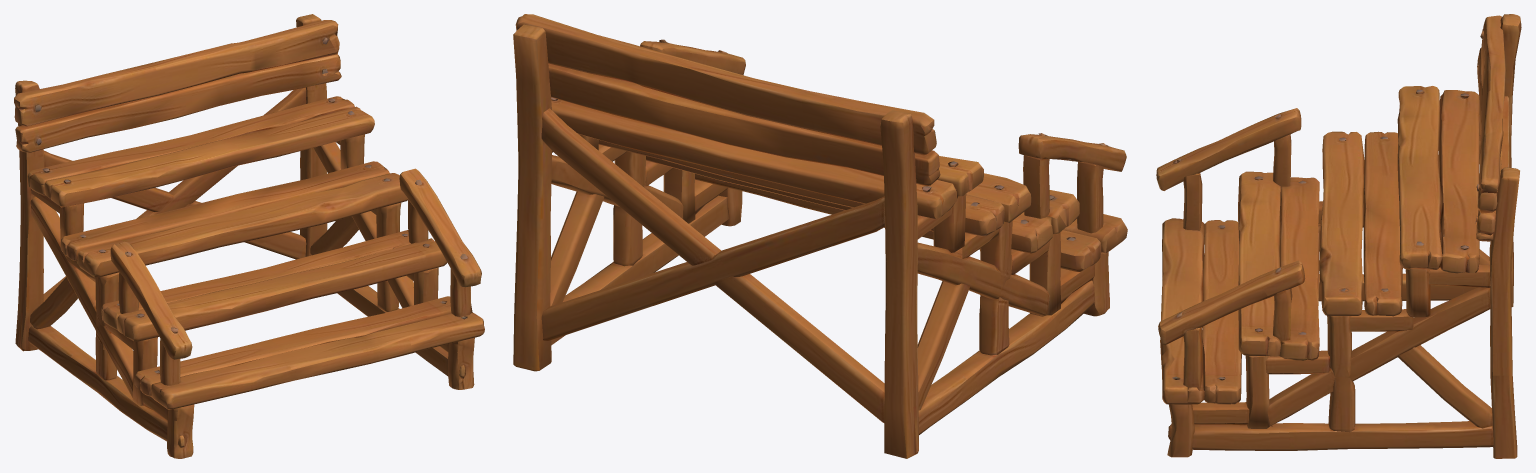
File: campo_grada.glb
3 renders of one model, left to right at view 1: azimuth 30°, elevation 25°; view 2: azimuth 150°, elevation 25°; view 3: azimuth 270°, elevation 25°, orthographic. The views are drawn at different scales.
Parts seen in each view (by area): view 1: tripo_node_46ad2c34-5d54-4976-ae5c-a0948325919c; view 2: tripo_node_46ad2c34-5d54-4976-ae5c-a0948325919c; view 3: tripo_node_46ad2c34-5d54-4976-ae5c-a0948325919c.
Part boxes in pixels (x1=…): tripo_node_46ad2c34-5d54-4976-ae5c-a0948325919c: x1=14, y1=14, x2=484, y2=458; tripo_node_46ad2c34-5d54-4976-ae5c-a0948325919c: x1=513, y1=14, x2=1127, y2=458; tripo_node_46ad2c34-5d54-4976-ae5c-a0948325919c: x1=1156, y1=14, x2=1521, y2=458.
Bounding box in the file's own units: 0.999 × 0.7856 × 0.907.
1 material, 1 textured.
